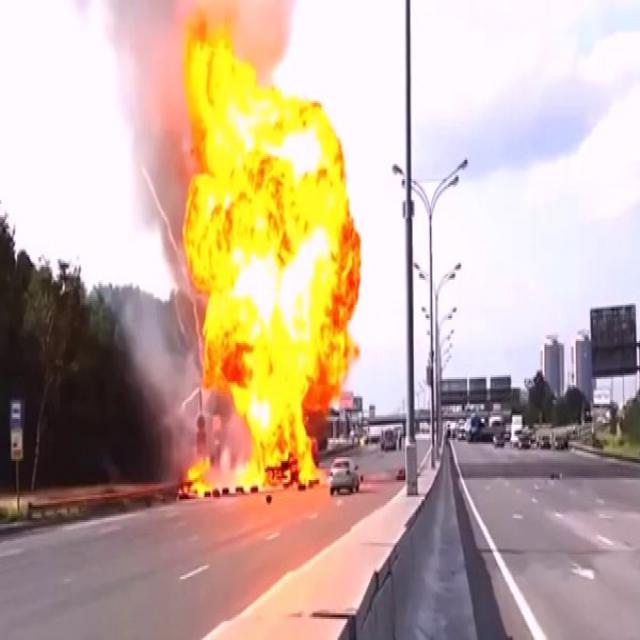fire: (166, 23, 364, 503)
